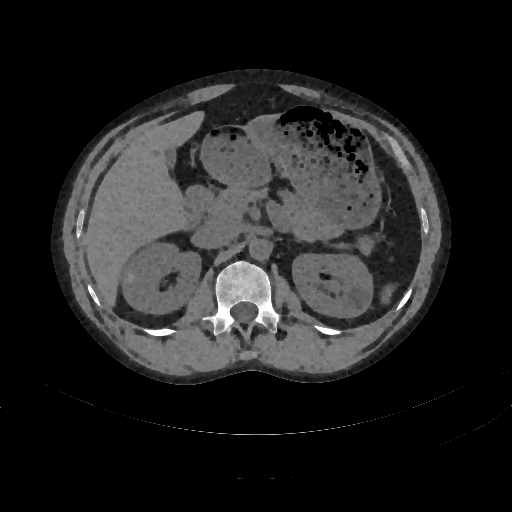Lesion: (122, 268, 139, 287)
